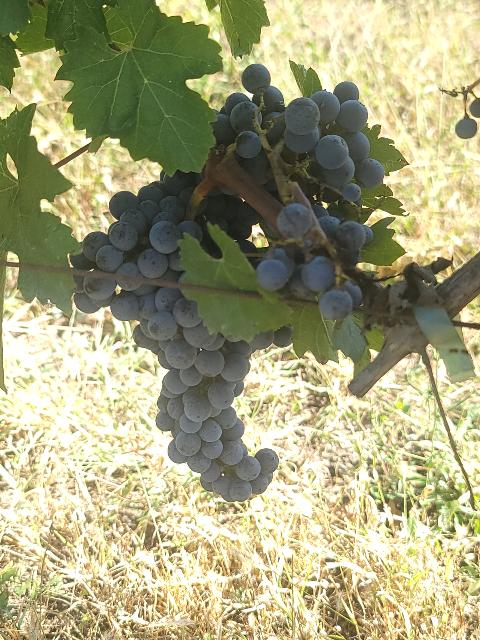grapes: (70, 171, 291, 501), (211, 64, 385, 205), (256, 202, 371, 320)
